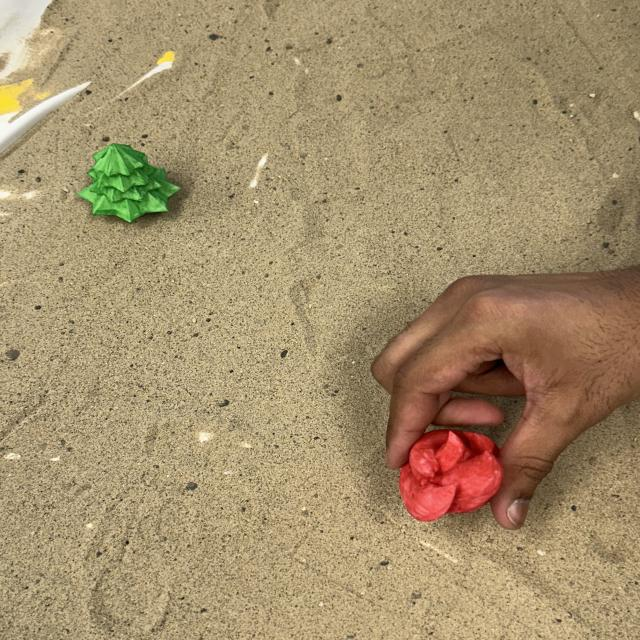fire: (396, 428, 505, 522)
tree: (76, 142, 181, 224)
